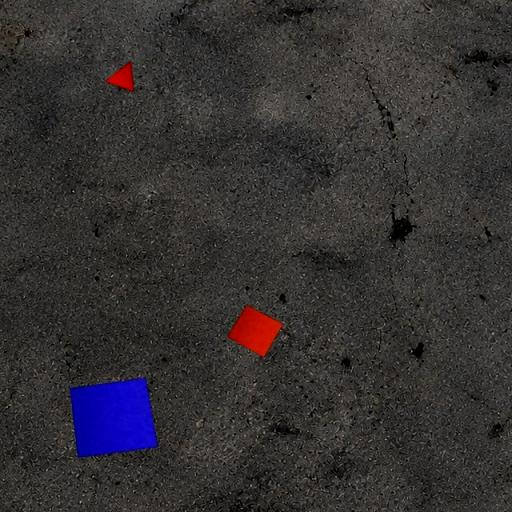BLUE_SQUARE: (69, 378, 158, 458)
RED_SQUARE: (226, 304, 284, 358)
